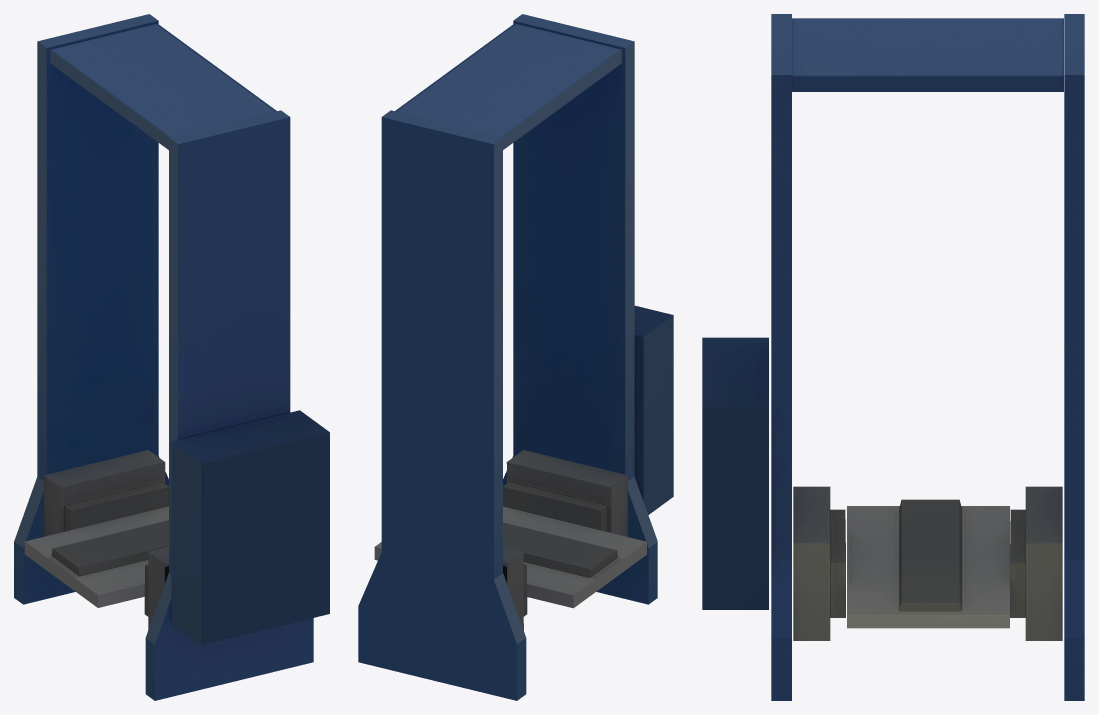
The model's file is Lali_agv.glb.
The picture shows the model from 3 angles, left to right: view 1: azimuth 30°, elevation 25°; view 2: azimuth 150°, elevation 25°; view 3: azimuth 270°, elevation 25°; orthographic projection. The views are drawn at different scales.
Visible parts, largest first — view 1: axis_01, axis_02, axis_03; view 2: axis_01, axis_02, axis_03; view 3: axis_01, axis_03, axis_02.
Part boxes in pixels (box(x1,y1,x2,y2)): axis_01: box(14, 14, 329, 700); axis_02: box(44, 450, 168, 630); axis_03: box(24, 506, 168, 607); axis_01: box(358, 14, 673, 700); axis_02: box(503, 450, 627, 630); axis_03: box(374, 506, 646, 608); axis_01: box(702, 14, 1084, 700); axis_03: box(847, 499, 1009, 628); axis_02: box(793, 486, 1062, 640).
Size of the model in its own units: 9.11 by 24.11 by 13.63.
Materials: 1 (1 with a texture image).
